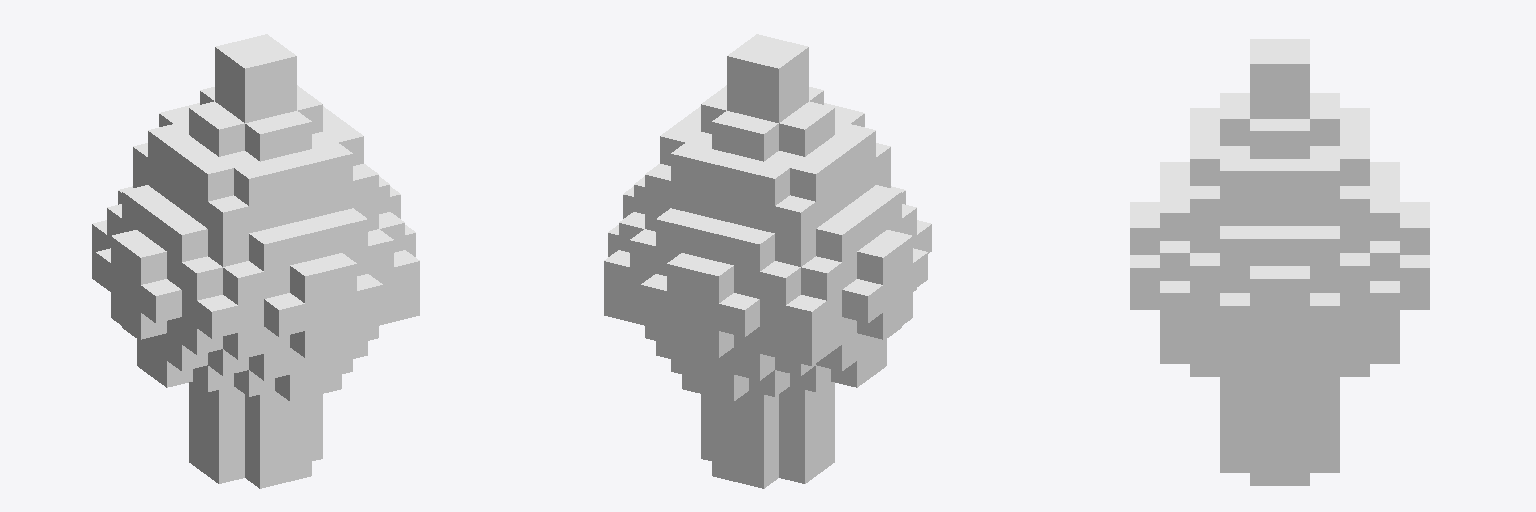
The model's file is tree2.obj.
3 views of the same model, side by side, from view 1: azimuth 30°, elevation 25°; view 2: azimuth 150°, elevation 25°; view 3: azimuth 270°, elevation 25° (orthographic).
Bounding box in the file's own units: 10 × 15 × 10.